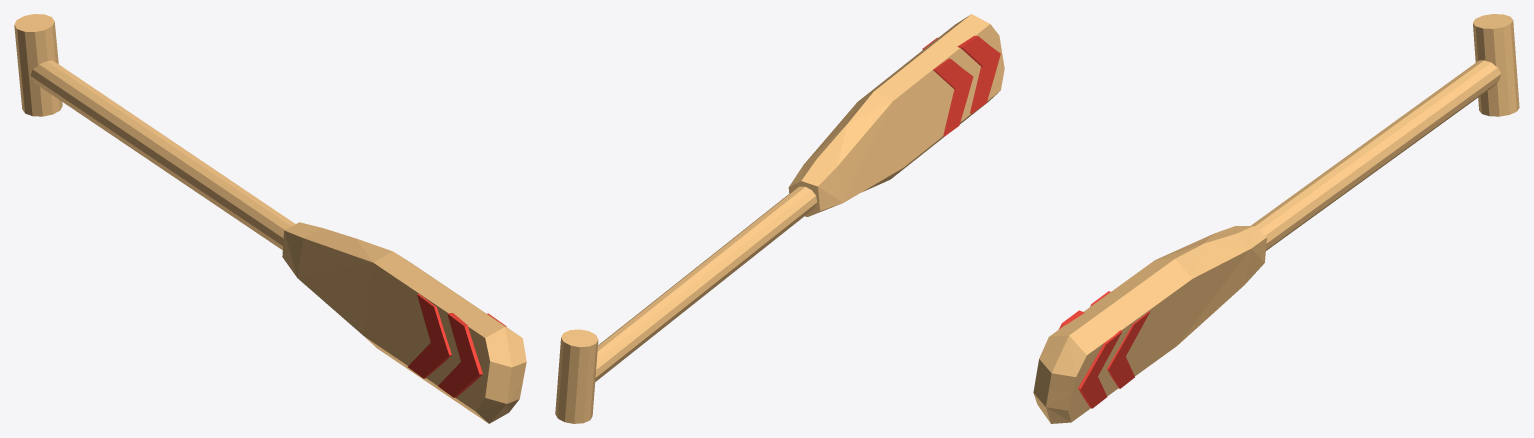
3 renders of one model, left to right at view 1: azimuth 30°, elevation 25°; view 2: azimuth 150°, elevation 25°; view 3: azimuth 330°, elevation 25°, orthographic. The views are drawn at different scales.
Visible parts, largest first — view 1: model; view 2: model; view 3: model.
Boxes of the visible parts, x1=… form: model: x1=14, y1=14, x2=526, y2=423; model: x1=555, y1=14, x2=1004, y2=423; model: x1=1033, y1=14, x2=1519, y2=423.
Size of the model in its own units: 0.1452 by 0.2459 by 1.99.
